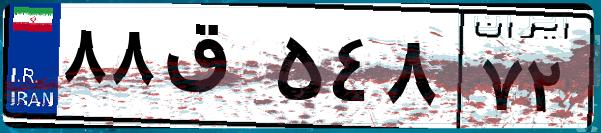2: (525, 38, 570, 115)
4: (330, 28, 385, 110)
5: (270, 28, 330, 110)
7: (475, 38, 525, 113)
8: (385, 28, 445, 110), (57, 26, 110, 100), (110, 28, 158, 98)
ق: (158, 20, 270, 120)
